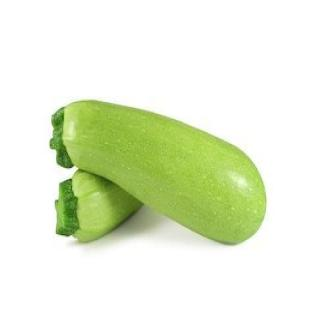Zucchini: (51, 101, 265, 243), (56, 171, 141, 242)
